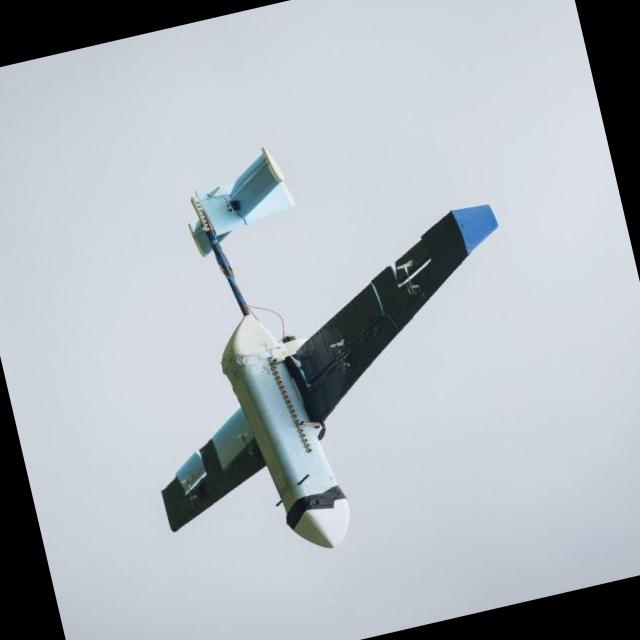UAV: (64, 98, 572, 610)
